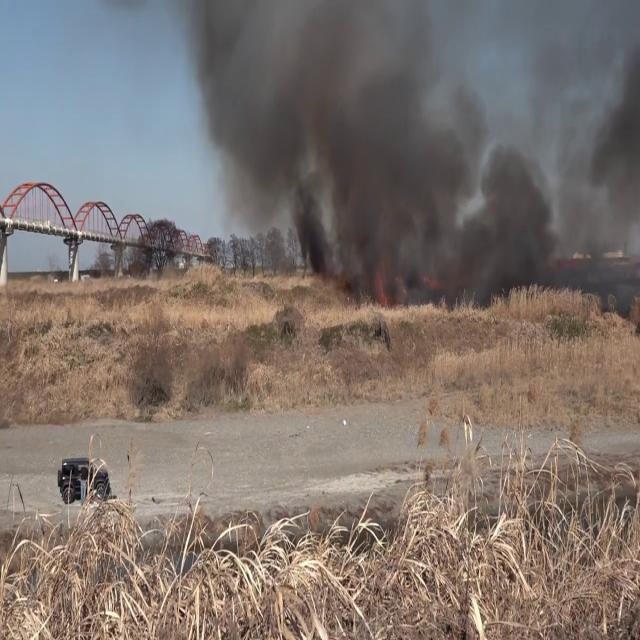Smoke: (181, 0, 635, 305)
